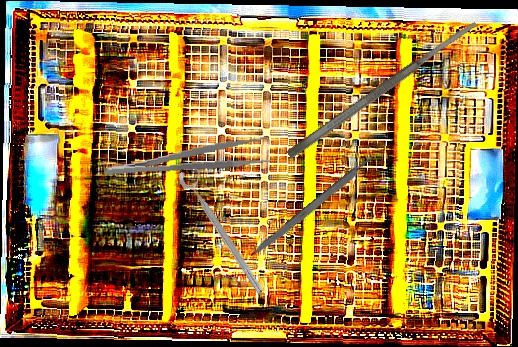Dressing Forceps: (102, 135, 271, 180)
Fixation Ring: (175, 163, 275, 297)
Scalpel Handle: (247, 152, 379, 262)
Spatula Surgical: (284, 18, 481, 161)
